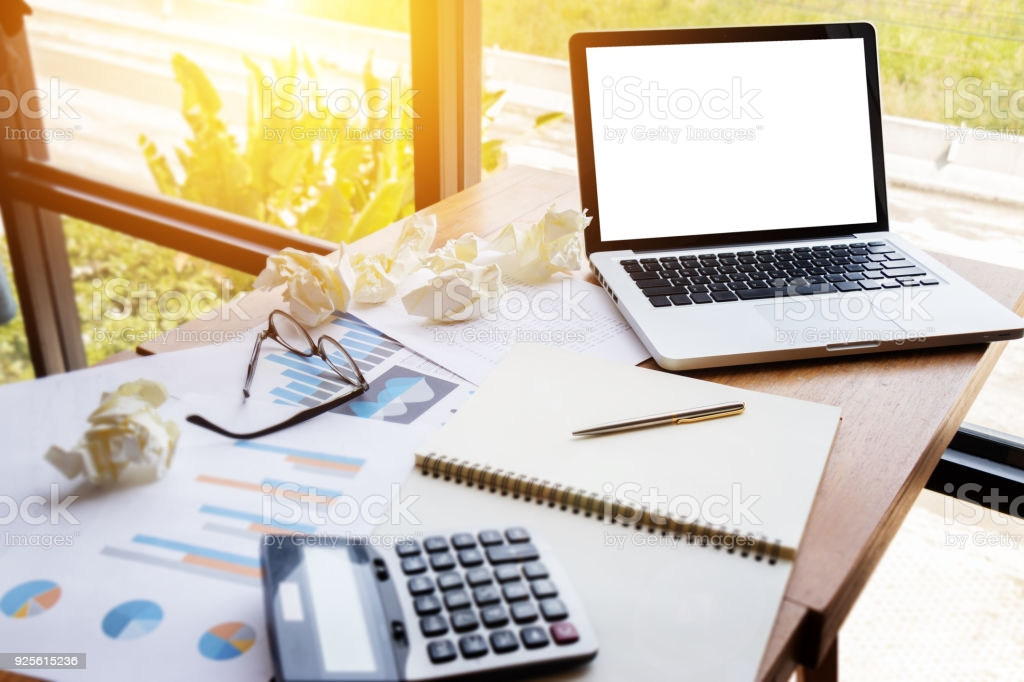Calculator: (261, 521, 600, 682)
